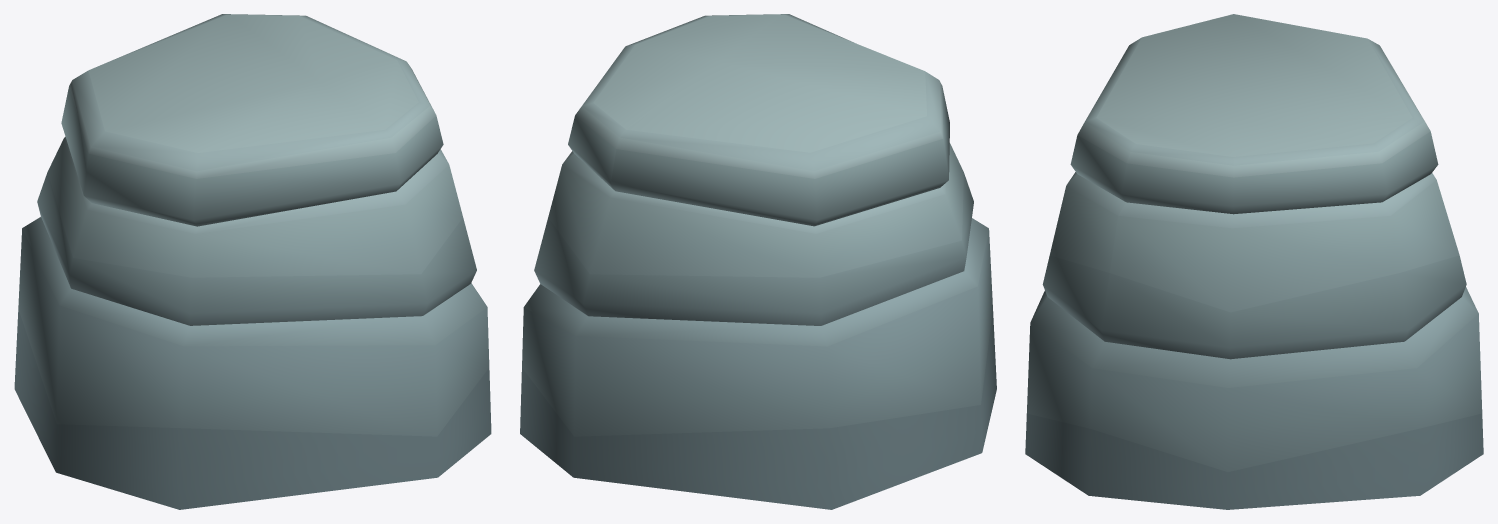
Rendered from rockMiddle.glb.
3 renders of one model, left to right at view 1: azimuth 30°, elevation 25°; view 2: azimuth 150°, elevation 25°; view 3: azimuth 270°, elevation 25°, orthographic.
Visible parts, largest first — view 1: rockMiddle; view 2: rockMiddle; view 3: rockMiddle.
Boxes of the visible parts, left/top/right/bottom form: rockMiddle: left=14, top=14, right=491, bottom=509; rockMiddle: left=520, top=14, right=996, bottom=509; rockMiddle: left=1025, top=14, right=1483, bottom=509.
Size of the model in its own units: 1 by 0.789 by 1.
Materials: 1 (1 with a texture image).
